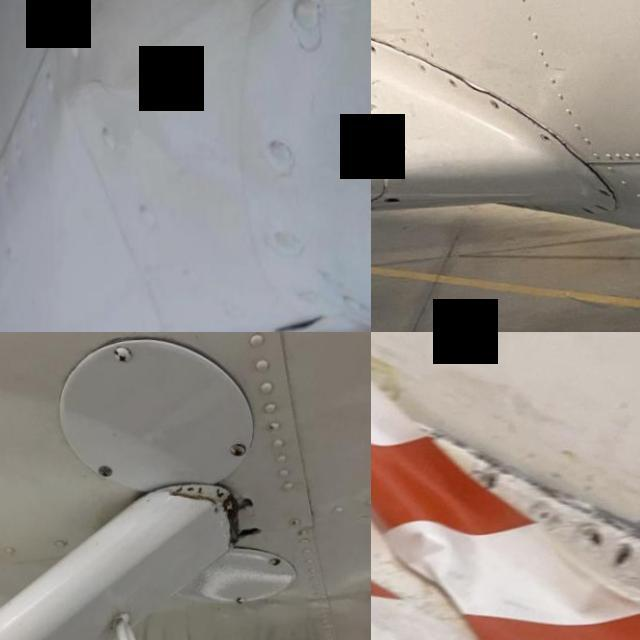Crack: (183, 466, 285, 584), (456, 55, 544, 136), (554, 137, 618, 195), (371, 1, 404, 46), (371, 63, 389, 137), (371, 158, 415, 182), (113, 626, 155, 640)
Dent: (62, 61, 175, 155), (210, 0, 288, 33)
Missing_Fastener: (538, 138, 551, 148), (596, 192, 610, 201), (595, 207, 607, 216), (446, 79, 456, 89), (384, 198, 396, 206), (371, 44, 378, 54)
